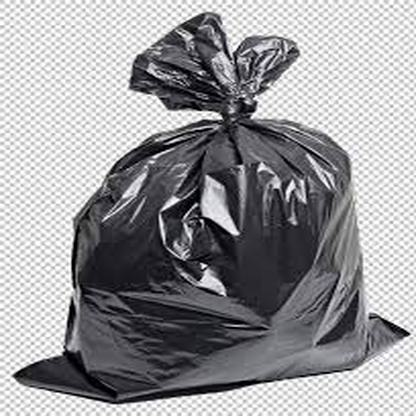plastic bag: (6, 8, 407, 402)
